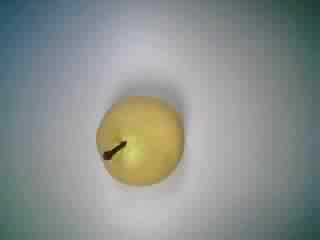pear: (85, 84, 189, 191)
